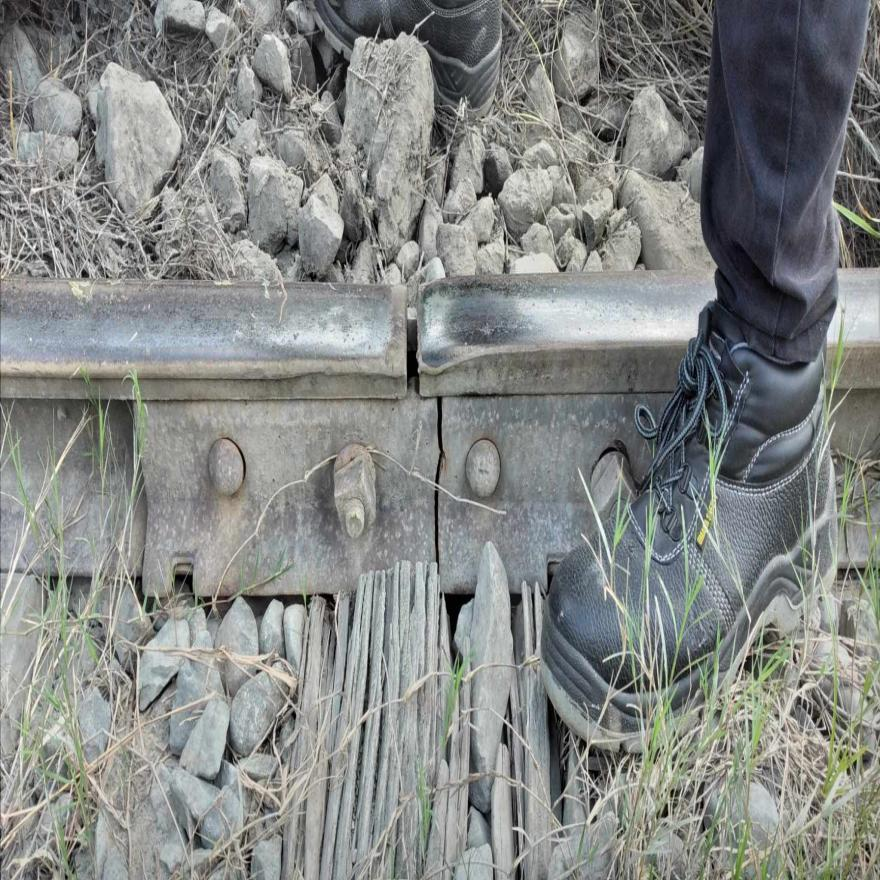railway-gap: (415, 392, 464, 603), (372, 278, 446, 398)
